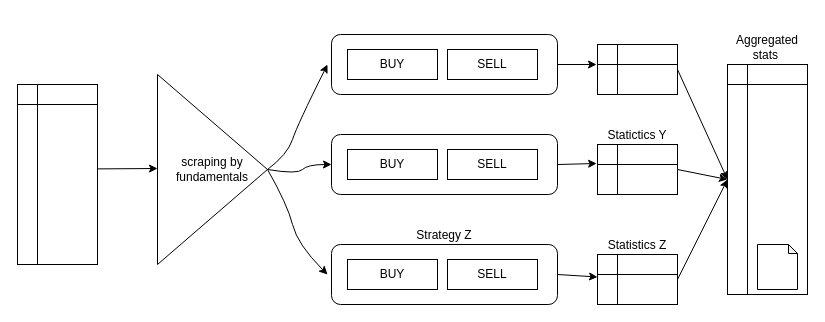
Some shapes in this 825 by 322 pixel diagram are drawn without their labels. Here are the shapes that lost their labels. From the top down, the box of each, then its label:
(330, 34, 558, 94): Strategy X
(596, 44, 678, 94): Statistics X
(16, 84, 98, 264): Data provider (Yhaoo finance / Finviz)
(330, 134, 558, 194): Strategy Y
(756, 244, 798, 290): reports
